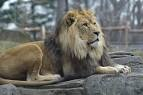lion: (2, 9, 131, 81)
